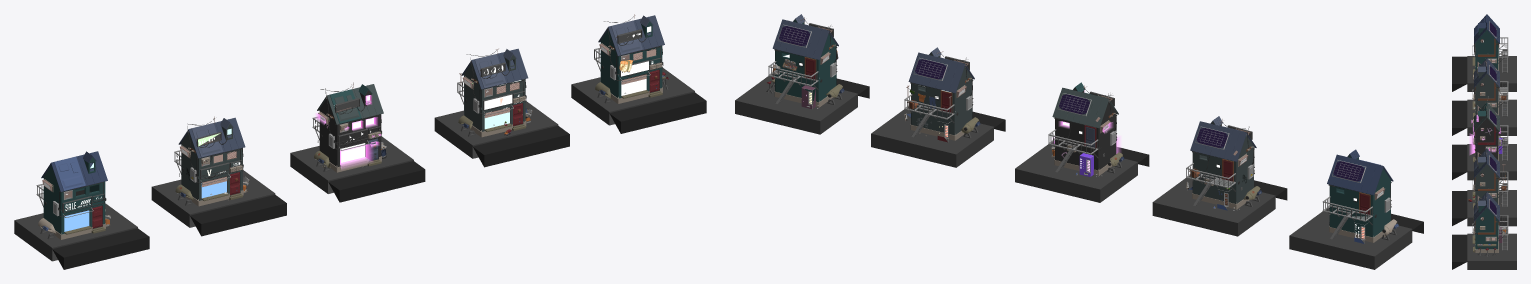
Rendered from cyberpunk_sci_fi_building.glb.
3 views of the same model, side by side, from view 1: azimuth 30°, elevation 25°; view 2: azimuth 150°, elevation 25°; view 3: azimuth 270°, elevation 25° (orthographic). The views are drawn at different scales.
Visible parts, largest first — view 1: Object_68, Object_266, Object_515, Object_82, Object_189, Object_12, Object_85, Object_45, Object_35, Object_8, Object_18, Object_21 (+7 smaller); view 2: Object_266, Object_515, Object_8, Object_82, Object_85, Object_189, Object_142, Object_12, Object_68, Object_35, Object_123, Object_10 (+4 smaller); view 3: Object_266, Object_68, Object_515, Object_82, Object_8, Object_12, Object_189, Object_85, Object_35, Object_28, Object_142, Object_45 (+8 smaller).
Part boxes in pixels (bbox=[...]): Object_68: bbox=[52, 92, 706, 269]; Object_266: bbox=[14, 67, 694, 261]; Object_515: bbox=[181, 55, 525, 200]; Object_82: bbox=[43, 21, 662, 234]; Object_189: bbox=[44, 16, 663, 216]; Object_12: bbox=[37, 21, 668, 239]; Object_85: bbox=[178, 15, 664, 158]; Object_45: bbox=[191, 15, 653, 161]; Object_35: bbox=[38, 43, 662, 239]; Object_8: bbox=[36, 21, 659, 227]; Object_18: bbox=[64, 65, 665, 234]; Object_21: bbox=[42, 14, 656, 199]; Object_266: bbox=[735, 74, 1412, 269]; Object_515: bbox=[911, 53, 1253, 203]; Object_8: bbox=[768, 24, 1397, 243]; Object_82: bbox=[775, 19, 1390, 237]; Object_85: bbox=[772, 19, 1256, 161]; Object_189: bbox=[774, 19, 1391, 232]; Object_142: bbox=[779, 26, 1364, 181]; Object_12: bbox=[766, 23, 1396, 240]; Object_68: bbox=[799, 62, 1423, 233]; Object_35: bbox=[773, 44, 1396, 242]; Object_123: bbox=[839, 88, 1397, 227]; Object_10: bbox=[767, 58, 1369, 214]; Object_266: bbox=[1467, 56, 1516, 269]; Object_68: bbox=[1452, 56, 1467, 269]; Object_515: bbox=[1474, 72, 1499, 204]; Object_82: bbox=[1474, 28, 1498, 249]; Object_8: bbox=[1472, 21, 1508, 250]; Object_12: bbox=[1473, 38, 1507, 256]; Object_189: bbox=[1468, 39, 1502, 234]; Object_85: bbox=[1474, 58, 1499, 221]; Object_35: bbox=[1472, 57, 1505, 252]; Object_28: bbox=[1474, 38, 1506, 240]; Object_142: bbox=[1489, 22, 1496, 214]; Object_45: bbox=[1474, 59, 1486, 213].
Size of the model in its own units: 52.71 by 7.17 by 7.03.
55 materials, 11 textured.
